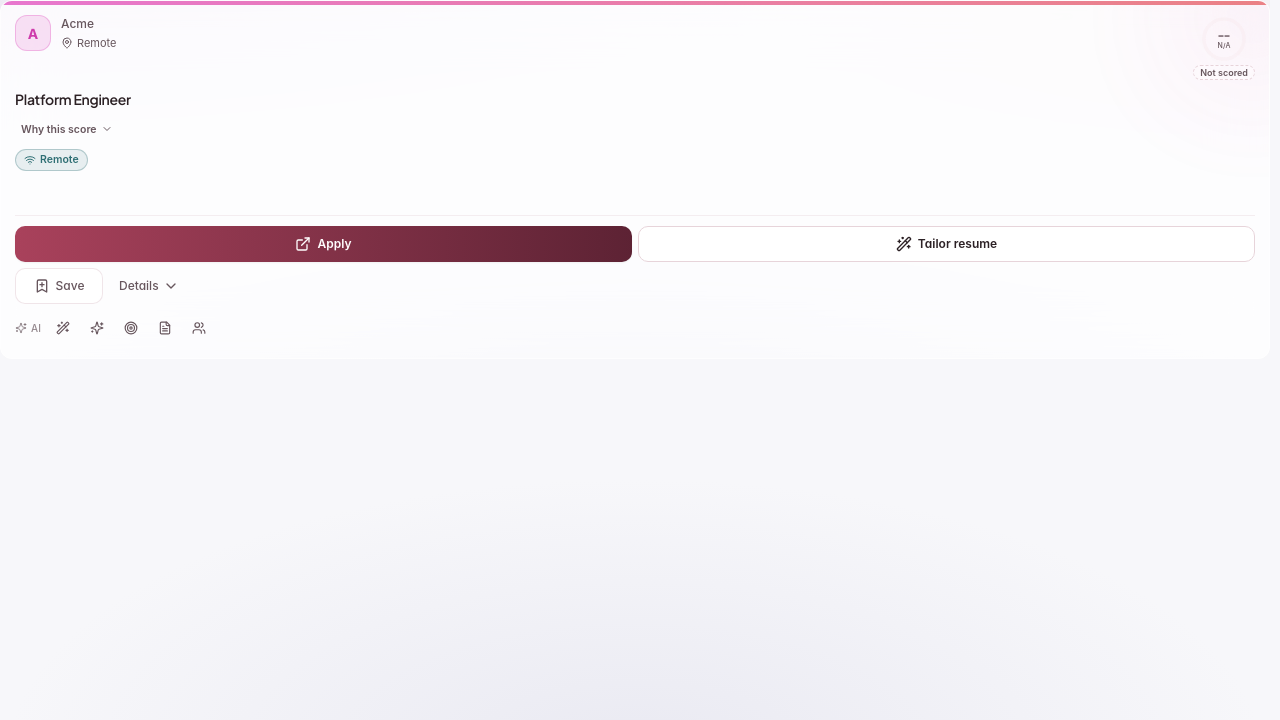
Test: JobCard apply confirmation › Details expands the job description on the card
Expected: the text "build platforms" is not shown
Step 1. Click the button "Details" → (149, 286), box [109, 268, 189, 304]
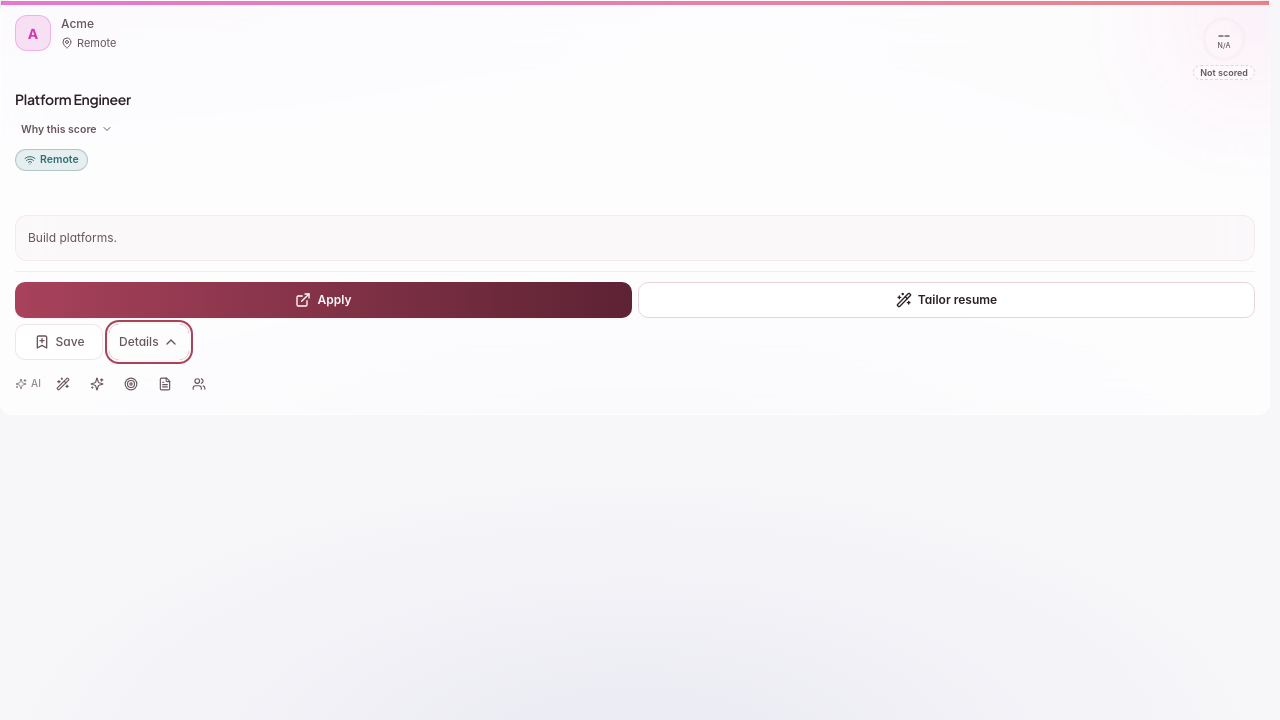
Now the text "Build platforms." is shown, box [28, 230, 117, 245]
